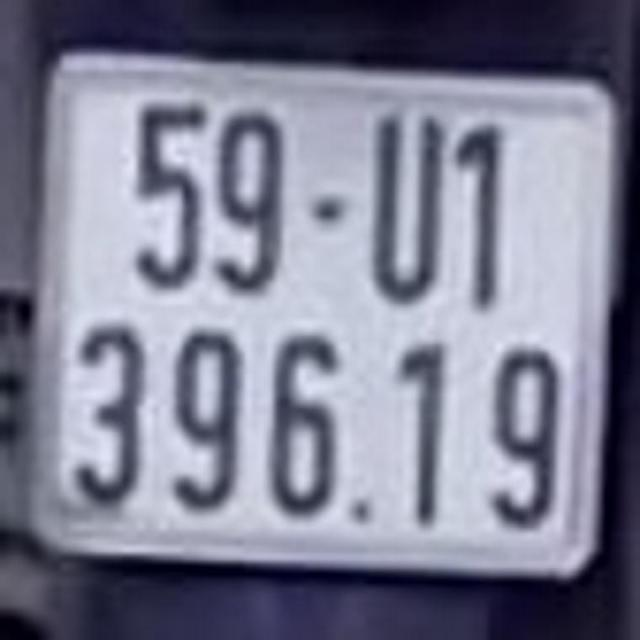1: (456, 118, 507, 310), (403, 336, 441, 530)
3: (74, 323, 144, 504)
5: (132, 98, 207, 287)
6: (275, 324, 343, 519)
9: (487, 340, 561, 530), (214, 106, 284, 292), (171, 332, 241, 511)
U: (370, 112, 444, 311)
